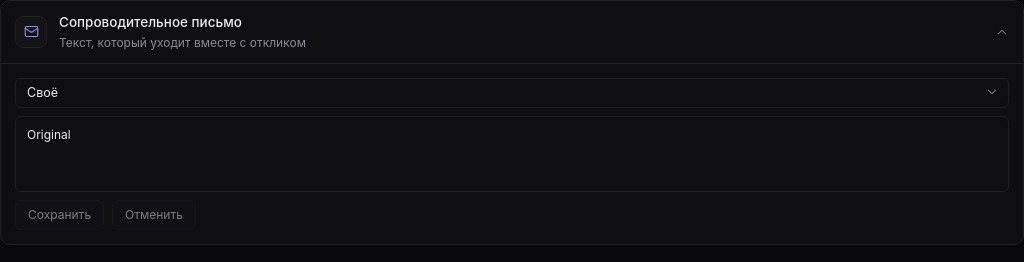
Test: letter is not silently saved when editing or closing
The width and height of the screenshot is (1024, 262).
Replace the text in the text box named "Сопроводительное письмо" with "Draft only" at [512, 154], box [15, 116, 1009, 192]
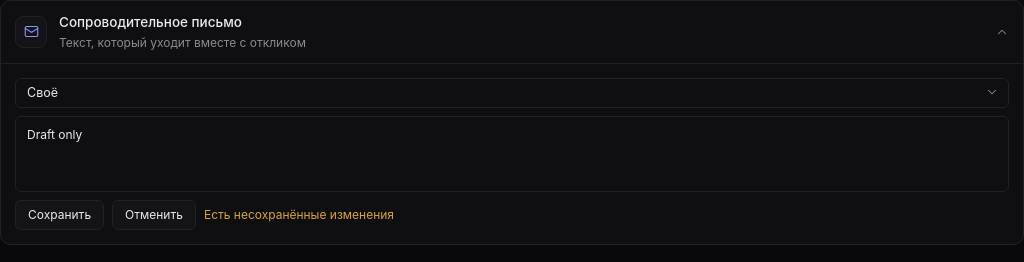
Result: the text "Есть несохранённые изменения" is shown at [204, 206, 394, 223]
